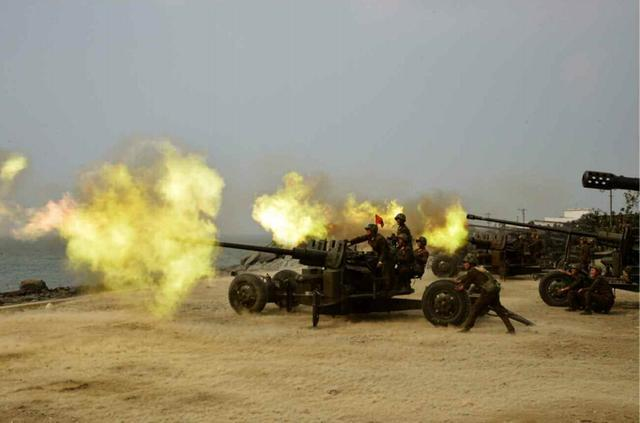MIL_SPG: (218, 240, 470, 326)
